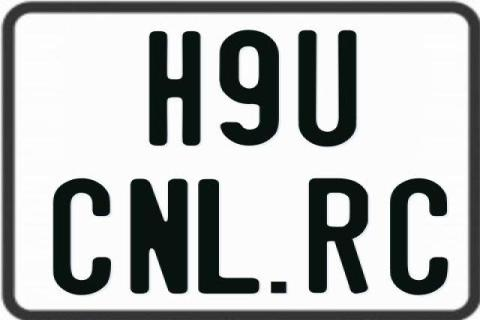0: (219, 29, 285, 145)
C: (387, 176, 450, 294), (52, 176, 110, 294)
H: (146, 31, 198, 151)
L: (197, 179, 262, 299)
N: (129, 179, 192, 299)
R: (309, 178, 370, 294)
U: (297, 31, 355, 151)
